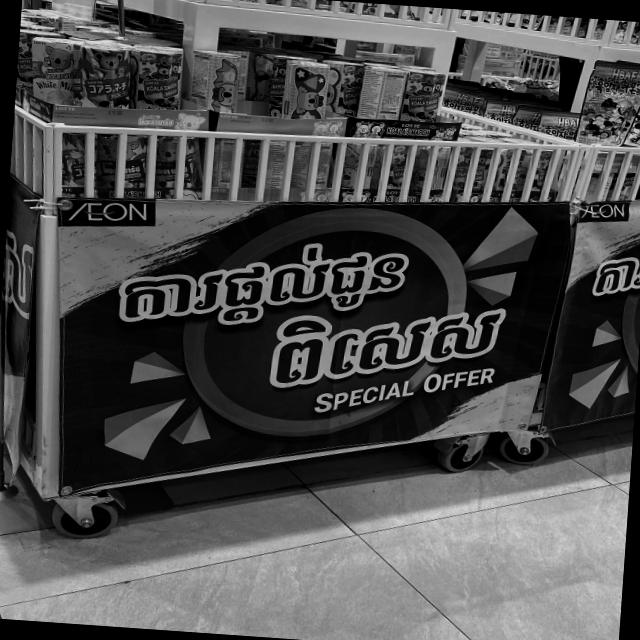Yolov11kh: (108, 234, 415, 344), (262, 295, 508, 397), (580, 251, 640, 304)
